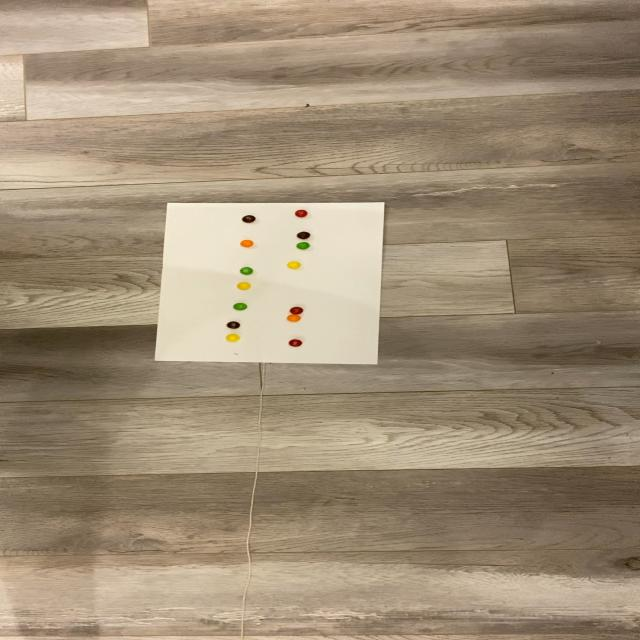smartie: (232, 302, 247, 311), (241, 214, 255, 223), (227, 322, 241, 331), (289, 307, 303, 316), (286, 261, 300, 270), (236, 281, 250, 290), (225, 333, 239, 342), (296, 242, 311, 250), (239, 240, 253, 248), (286, 315, 300, 323), (294, 210, 308, 218), (239, 267, 253, 275), (289, 339, 302, 347), (296, 231, 310, 238)
